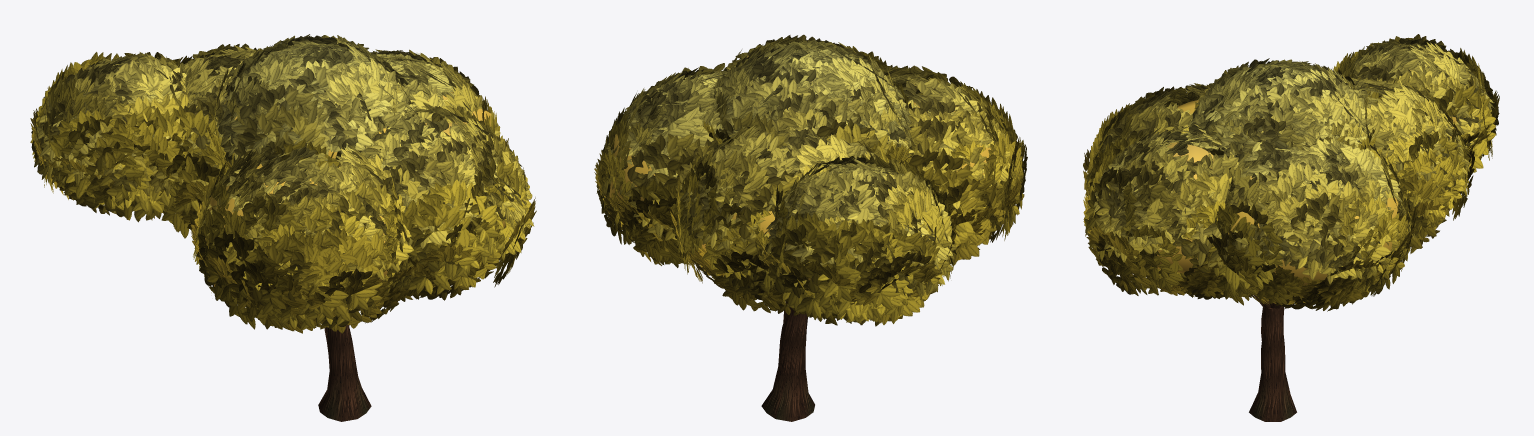
File: tree_bloom_2.gltf
3 views of the same model, side by side, from view 1: azimuth 30°, elevation 25°; view 2: azimuth 150°, elevation 25°; view 3: azimuth 270°, elevation 25° (orthographic). The views are drawn at different scales.
Parts seen in each view (by area): view 1: LeafCards, Bark, LeafMass; view 2: LeafCards, Bark, LeafMass; view 3: LeafCards, Bark, LeafMass.
Part boxes in pixels (box(x1,y1,x2,y2)): LeafCards: box(30, 34, 536, 333); Bark: box(318, 325, 371, 421); LeafMass: box(205, 92, 505, 286); LeafCards: box(594, 34, 1027, 326); Bark: box(761, 302, 814, 421); LeafMass: box(609, 55, 1003, 280); LeafCards: box(1083, 34, 1499, 311); Bark: box(1249, 295, 1296, 421); LeafMass: box(1157, 70, 1490, 285).
Bounding box in the file's own units: 8.33 × 7.2 × 8.38.
Materials: 3 (2 with a texture image).
